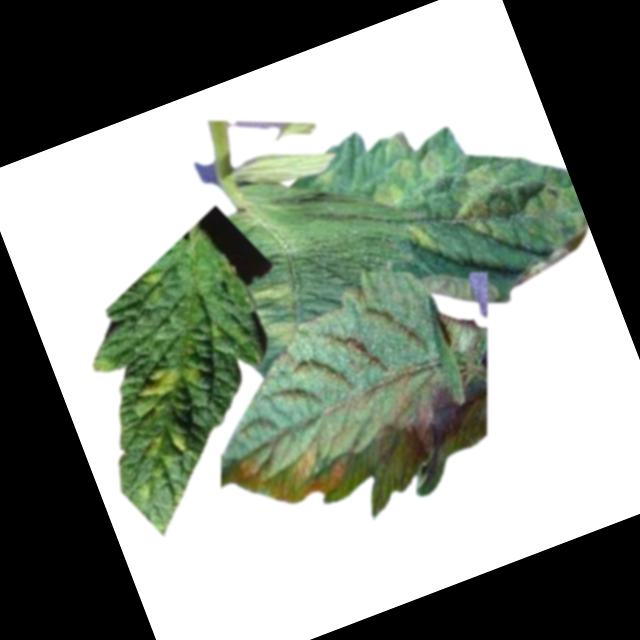Leaf_Mold: (441, 138, 586, 276), (223, 416, 362, 529), (356, 119, 457, 214), (245, 268, 319, 353), (123, 351, 206, 418), (135, 417, 194, 472), (400, 215, 443, 264)
